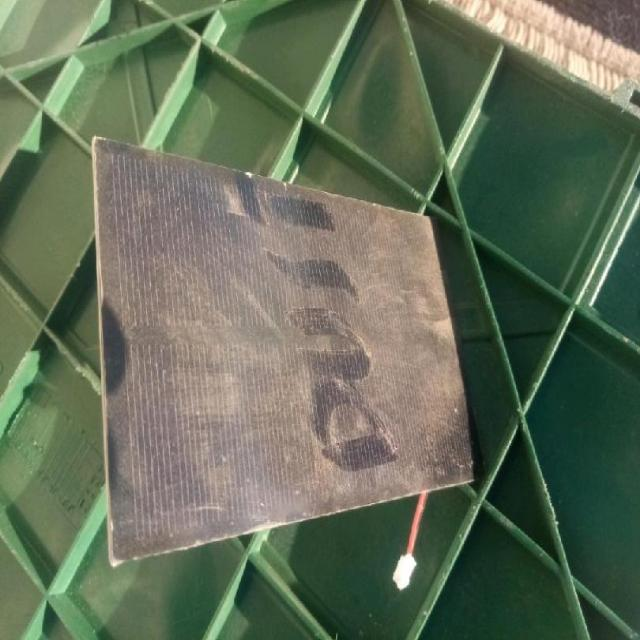faulty: (92, 158, 474, 556)
